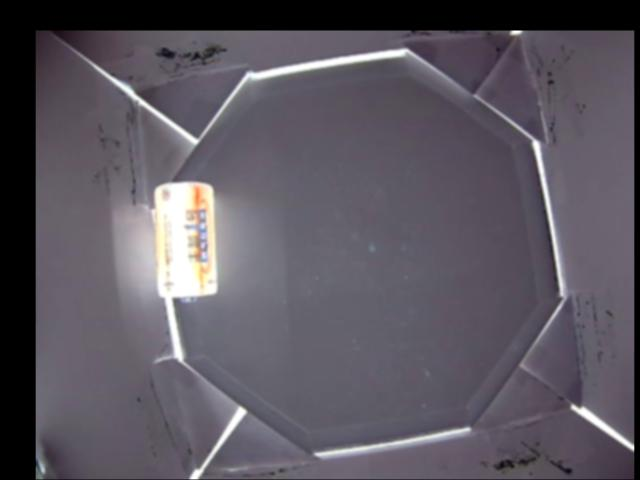Battery: (156, 181, 215, 305)
